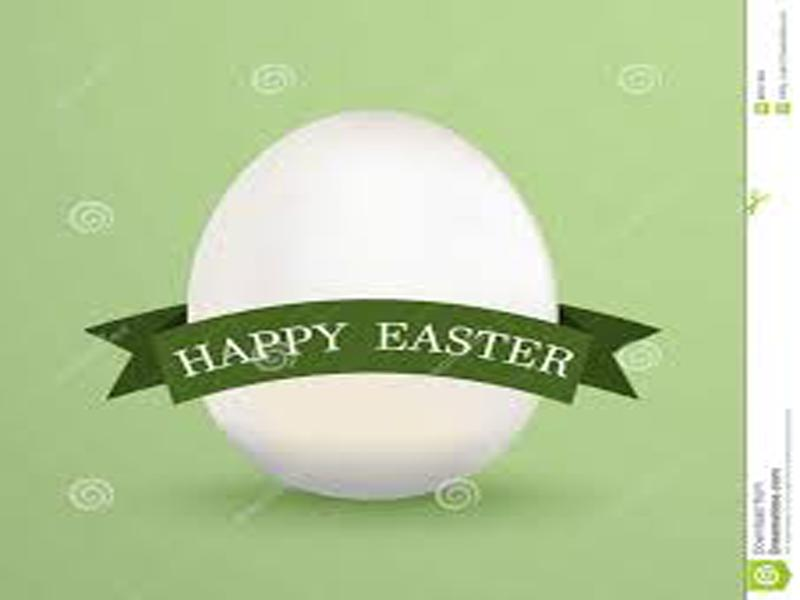Eggs: (191, 110, 559, 498)
